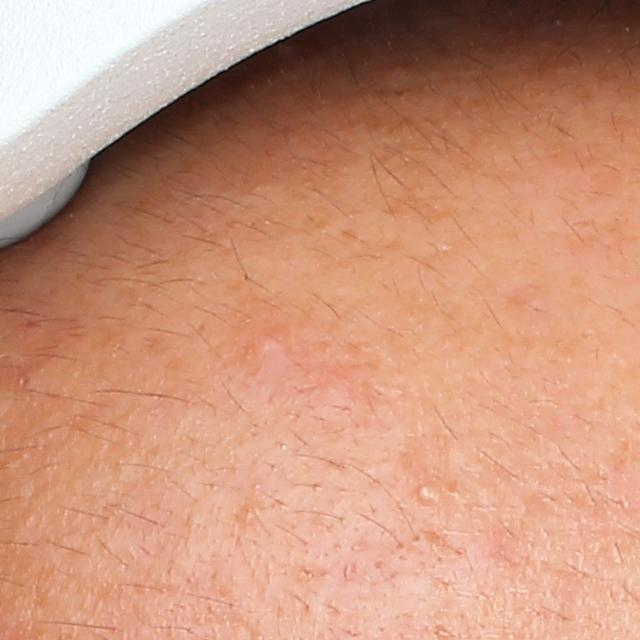comedo: (411, 482, 439, 507)
